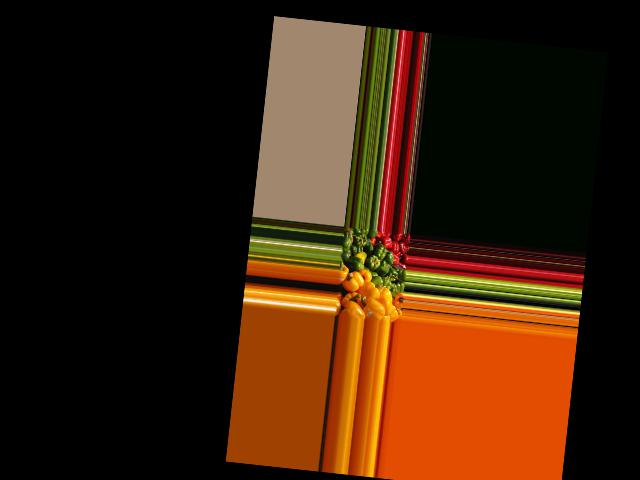bell_pepper: (341, 226, 354, 243)
